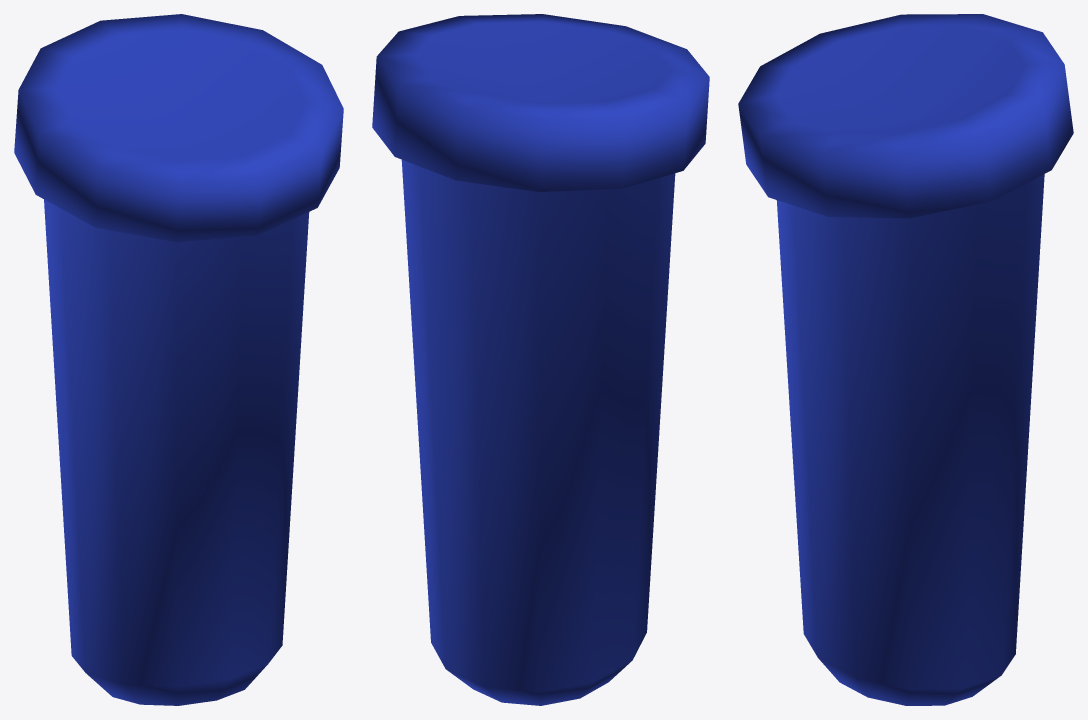
The model's file is CatheterBagCap.fbx.
3 renders of one model, left to right at view 1: azimuth 30°, elevation 25°; view 2: azimuth 150°, elevation 25°; view 3: azimuth 270°, elevation 25°, orthographic. The views are drawn at different scales.
Parts seen in each view (by area): view 1: CatheterBagCap; view 2: CatheterBagCap; view 3: CatheterBagCap.
Boxes of the visible parts, x1=… form: CatheterBagCap: x1=14, y1=14, x2=343, y2=705; CatheterBagCap: x1=372, y1=14, x2=709, y2=705; CatheterBagCap: x1=738, y1=14, x2=1073, y2=705.
Size of the model in its own units: 0.0123 by 0.026 by 0.0125.
